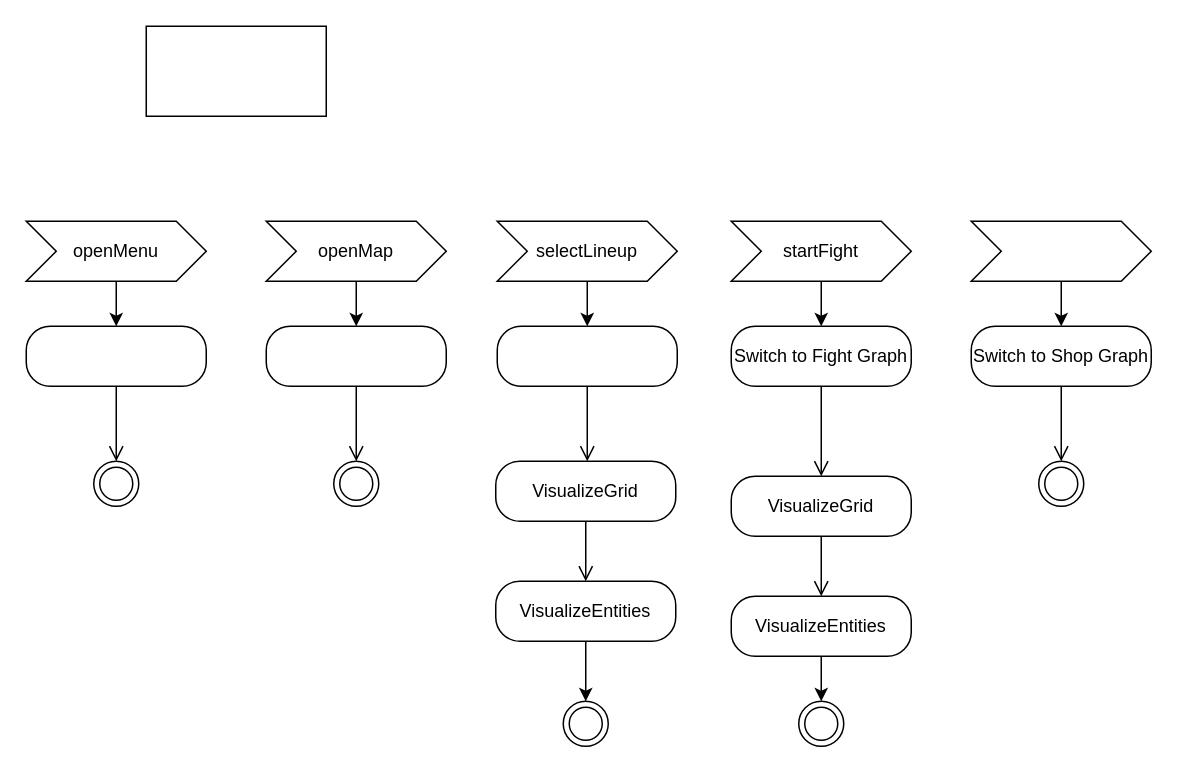
Some shapes in this 1178 by 773 pixel diagram are drawn without their labels. The box of each missing label's shape, as (x1, y1, x2, y2) in pixels:
openShop: (970, 220, 1151, 281)
Switch to Lineup Graph: (496, 325, 677, 386)
Switch to Map Graph: (265, 325, 446, 386)
Switch to Menu Graph: (25, 325, 206, 386)
Visualizer: (145, 25, 326, 116)
